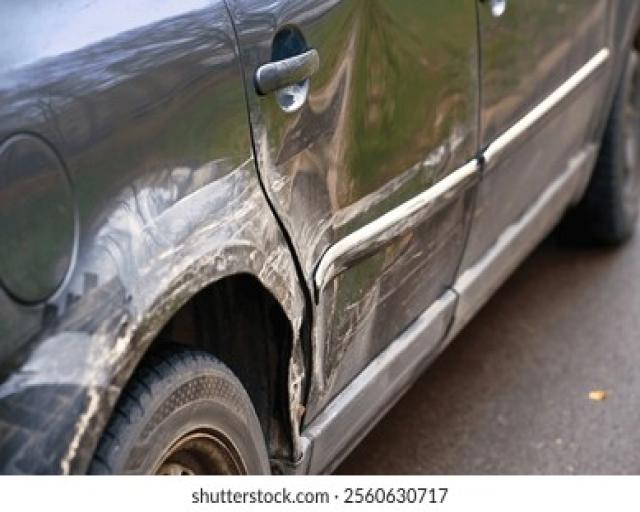scratch: (18, 120, 487, 491)
